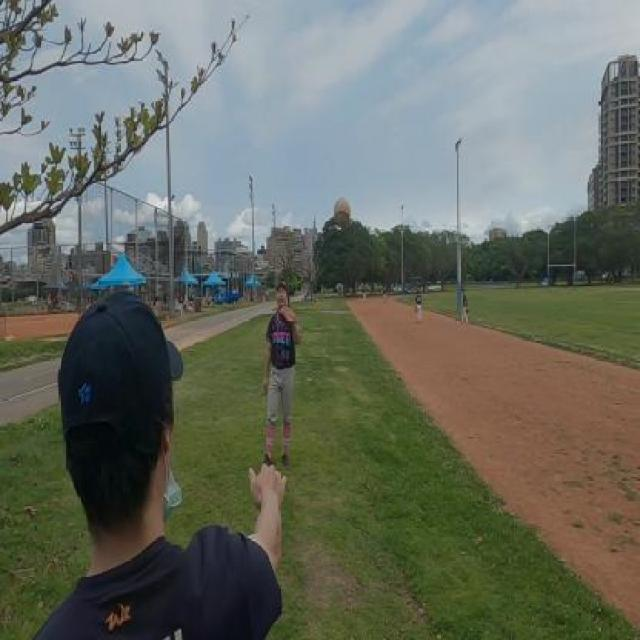baseball: (334, 196, 351, 230)
